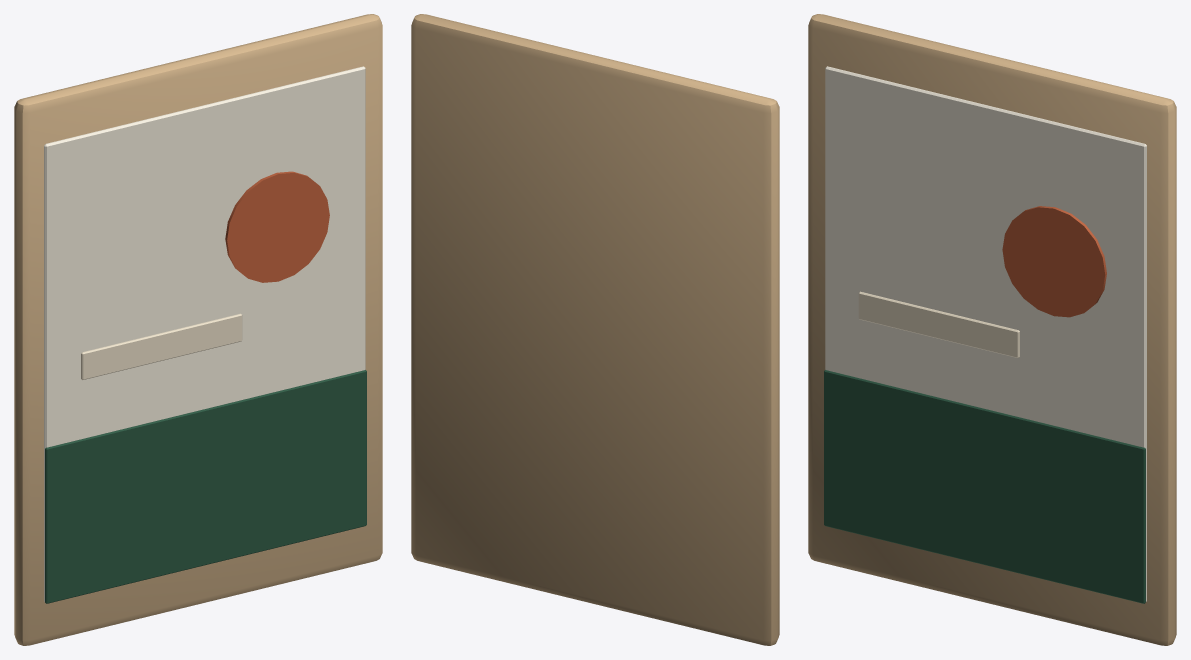
File: poster.glb
3 views of the same model, side by side, from view 1: azimuth 30°, elevation 25°; view 2: azimuth 150°, elevation 25°; view 3: azimuth 330°, elevation 25° (orthographic).
Visible parts, largest first — view 1: FURN-poster; view 2: FURN-poster; view 3: FURN-poster.
Boxes of the visible parts, x1,y1,x2,y2 form: FURN-poster: [14, 14, 382, 645]; FURN-poster: [411, 14, 779, 645]; FURN-poster: [808, 14, 1176, 645].
Size of the model in its own units: 0.7 by 1 by 0.05.
